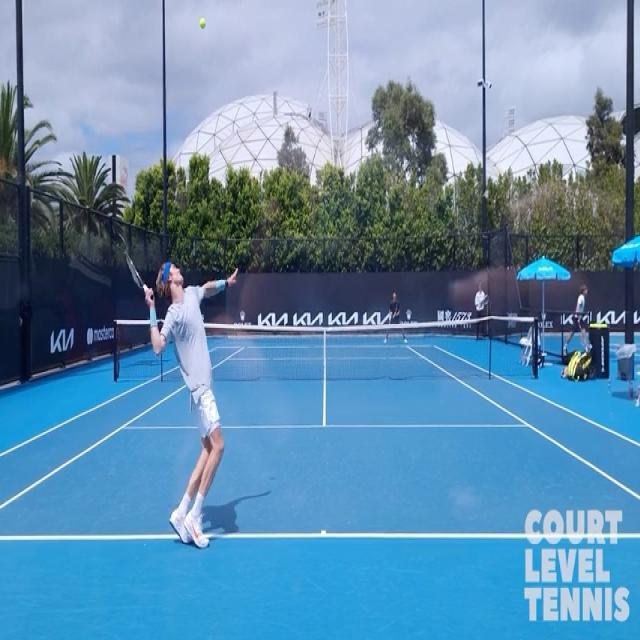serve_hit: (124, 177, 244, 573)
